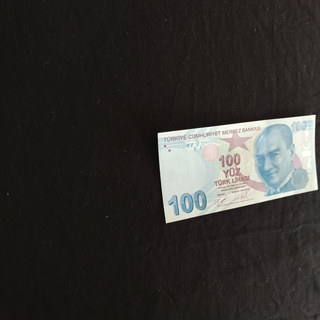100TLFront: (157, 114, 318, 224)
